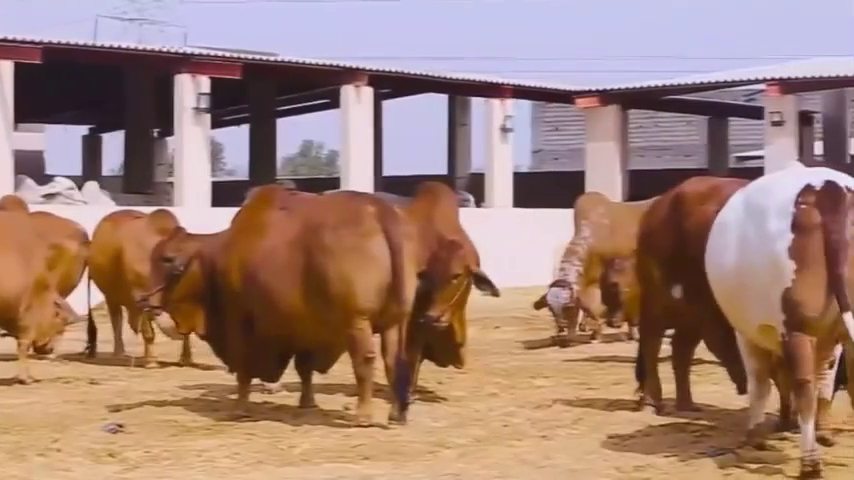bo: (141, 180, 406, 437), (690, 153, 853, 473), (621, 158, 748, 420), (382, 167, 508, 384), (80, 190, 199, 372), (531, 183, 641, 348), (2, 202, 82, 392), (595, 247, 648, 331)
